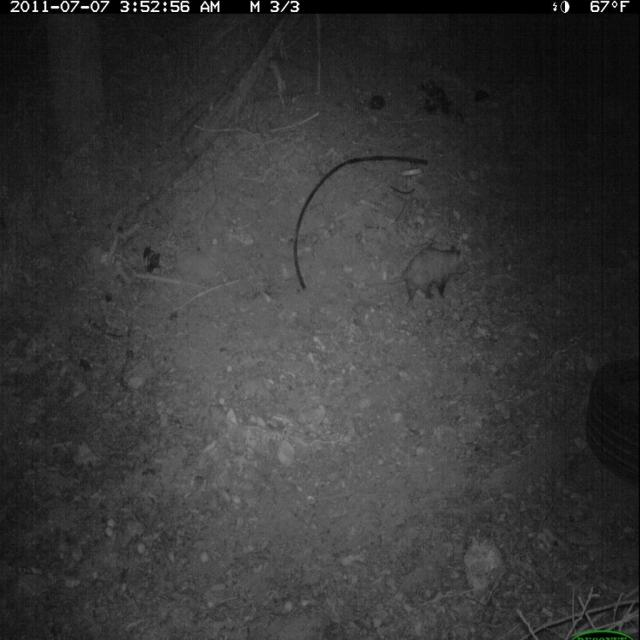opossum: (370, 229, 478, 321)
